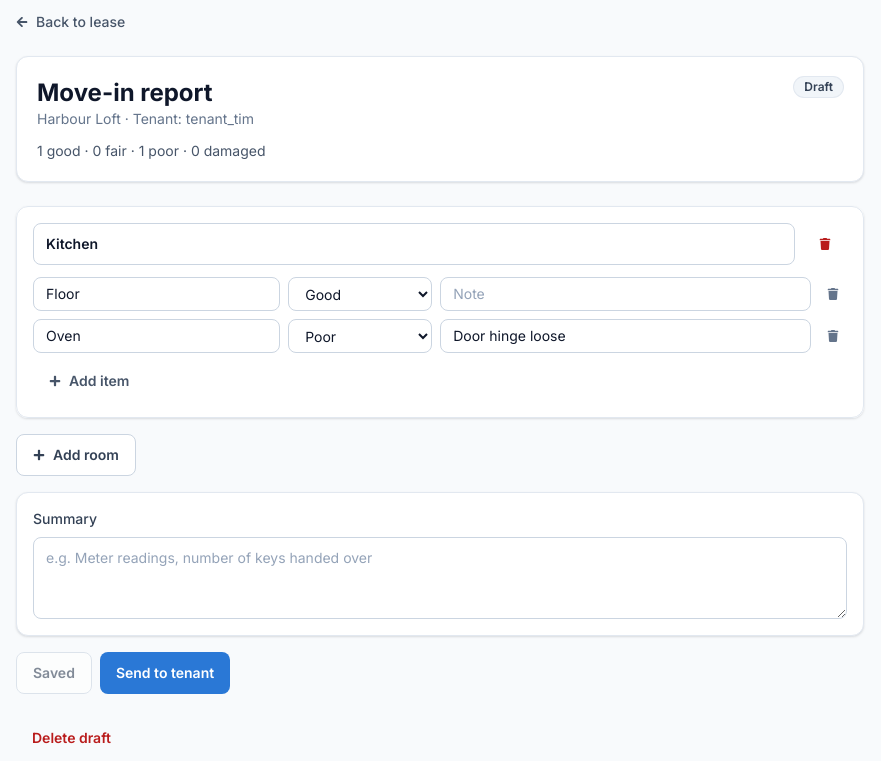
Inspection page › saves unsaved changes before sending to the tenant
Step 1. Type ", replaced" into the field named "Kitchen: Oven note" → coordinates (626, 336), box [440,319,811,353]
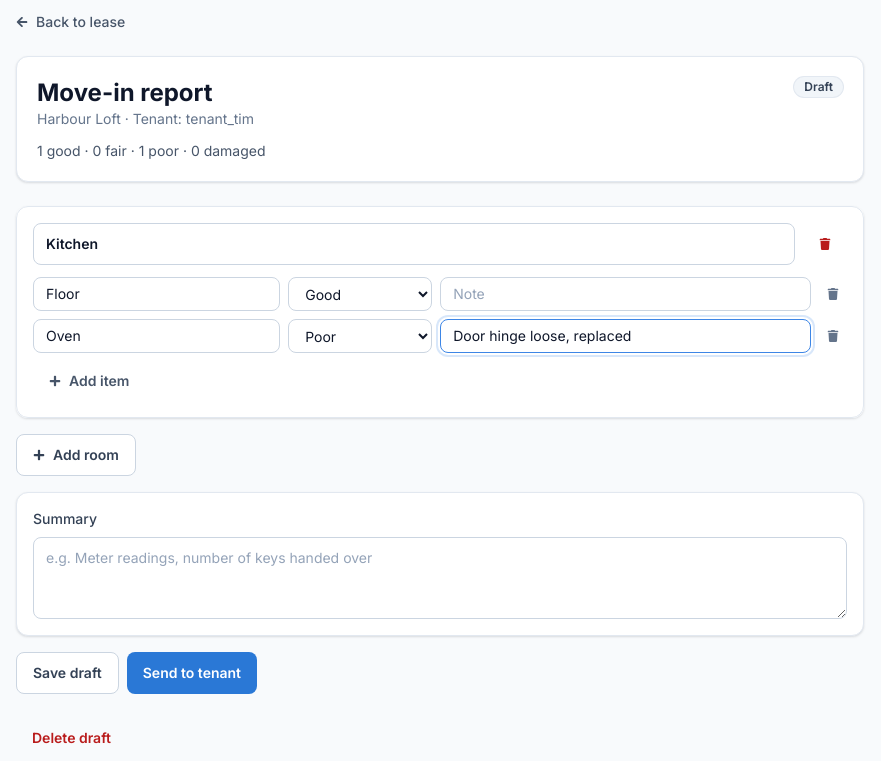
Step 2. Click the button "Send to tenant" → coordinates (192, 673), box [127,652,257,694]
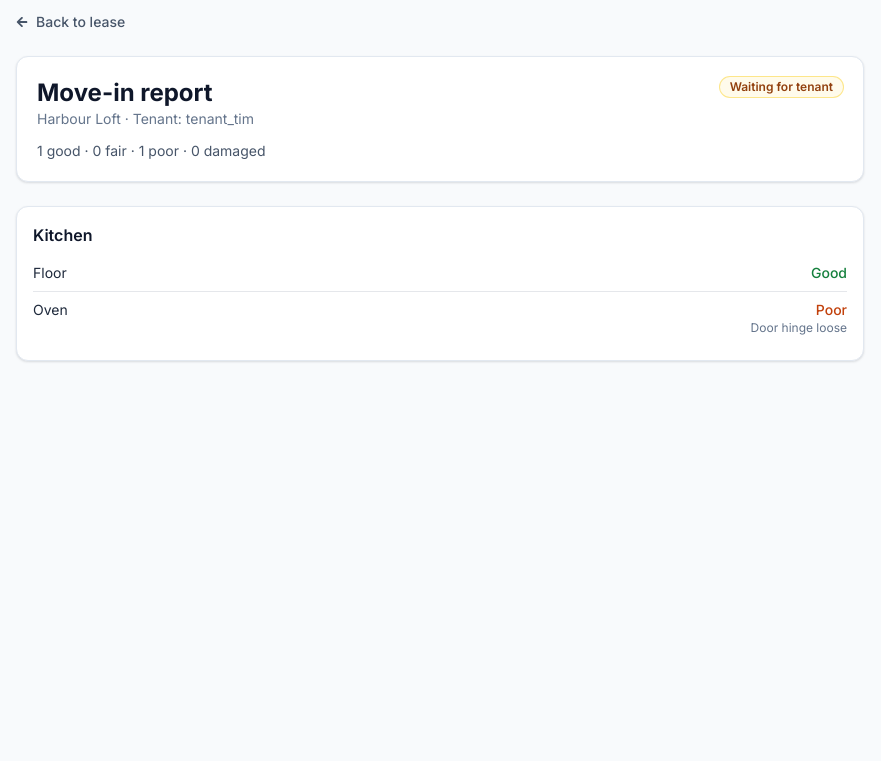
Expected: the text "Waiting for tenant" is shown, [720,77,843,97]
Expected: the button "Send to tenant" is gone
